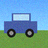vehicle: (4, 13, 37, 37)
